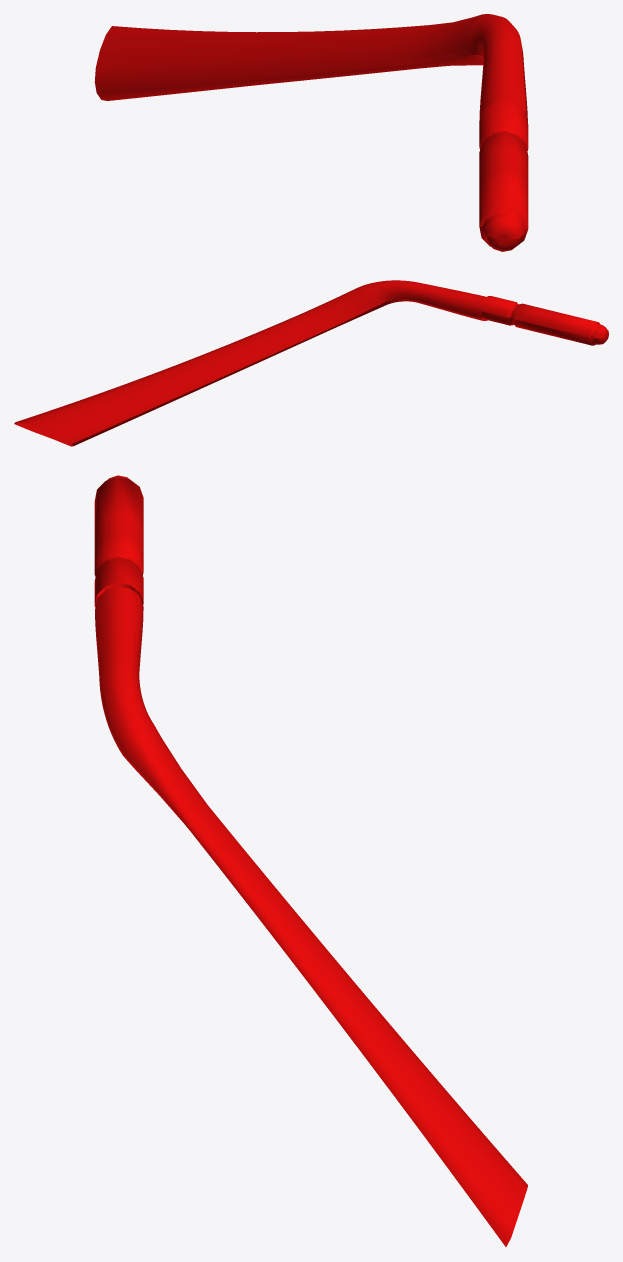
File: rafale_highlight_04_perche.fbx
3 views of the same model, one above another, from view 1: azimuth 90°, elevation 25°; view 2: azimuth 150°, elevation 25°; view 3: azimuth 270°, elevation 25° (orthographic). The views are drawn at different scales.
Visible parts, largest first — view 1: rafale_highlight_04_perche; view 2: rafale_highlight_04_perche; view 3: rafale_highlight_04_perche.
Boxes of the visible parts, x1,y1,x2,y2 form: rafale_highlight_04_perche: [94, 14, 528, 251]; rafale_highlight_04_perche: [14, 280, 608, 446]; rafale_highlight_04_perche: [94, 475, 527, 1246].
Bounding box in the file's own units: 82.16 × 24.65 × 31.1.
